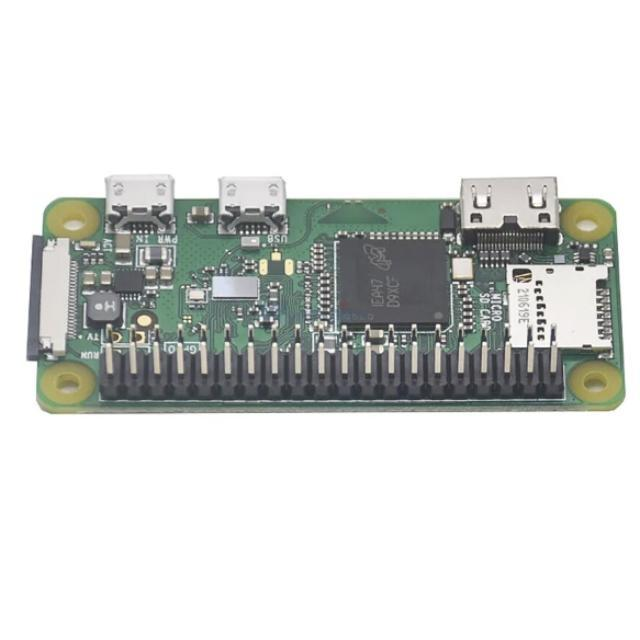Raspberry-Pi-Zero-WH: (27, 175, 624, 412)
